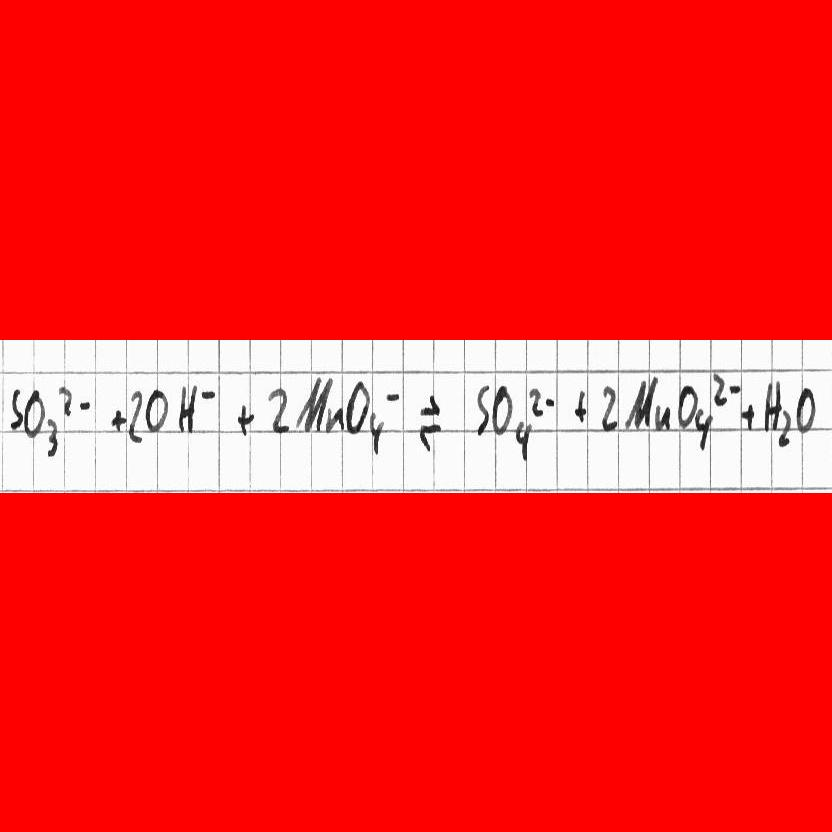Char: (295, 375, 332, 433), (414, 392, 445, 454), (623, 374, 658, 428), (343, 378, 371, 434), (22, 387, 45, 440), (674, 383, 699, 431), (490, 384, 513, 436), (760, 379, 782, 432), (266, 387, 290, 434), (598, 384, 621, 432), (795, 386, 818, 434), (144, 387, 168, 432), (691, 407, 714, 451), (177, 384, 197, 433), (127, 389, 144, 446), (474, 383, 491, 439), (513, 418, 533, 463), (234, 402, 257, 438), (368, 411, 386, 456), (7, 387, 23, 431), (45, 416, 61, 458), (570, 388, 588, 425), (710, 369, 728, 406), (324, 404, 343, 435), (651, 403, 671, 431), (777, 409, 791, 449), (58, 384, 75, 416), (739, 401, 756, 433), (108, 407, 128, 433), (527, 385, 543, 417), (384, 388, 402, 403), (78, 398, 94, 412), (199, 388, 216, 401), (727, 382, 742, 395), (543, 396, 557, 409)
